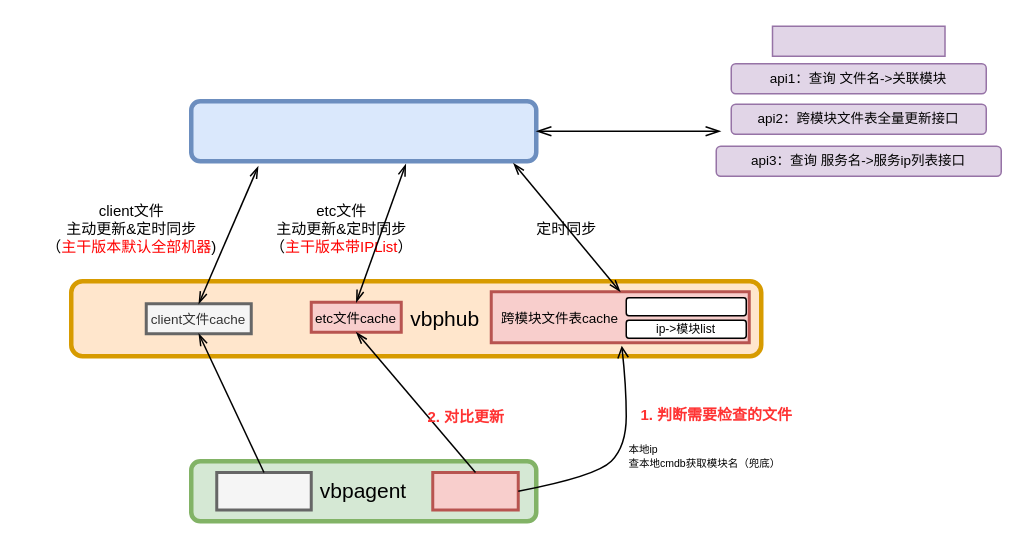
Some shapes in this 1028 by 549 pixel diagram are drawn without their labels. Here are the shapes that lost their labels. From the top down, the centre of each, then its label:
At point (858, 40): "配置中心".
At point (363, 130): "vbpconfsvr".
At point (685, 306): "模块名->文件list".
At point (263, 490): "client文件".
At point (474, 490): "etc文件".
